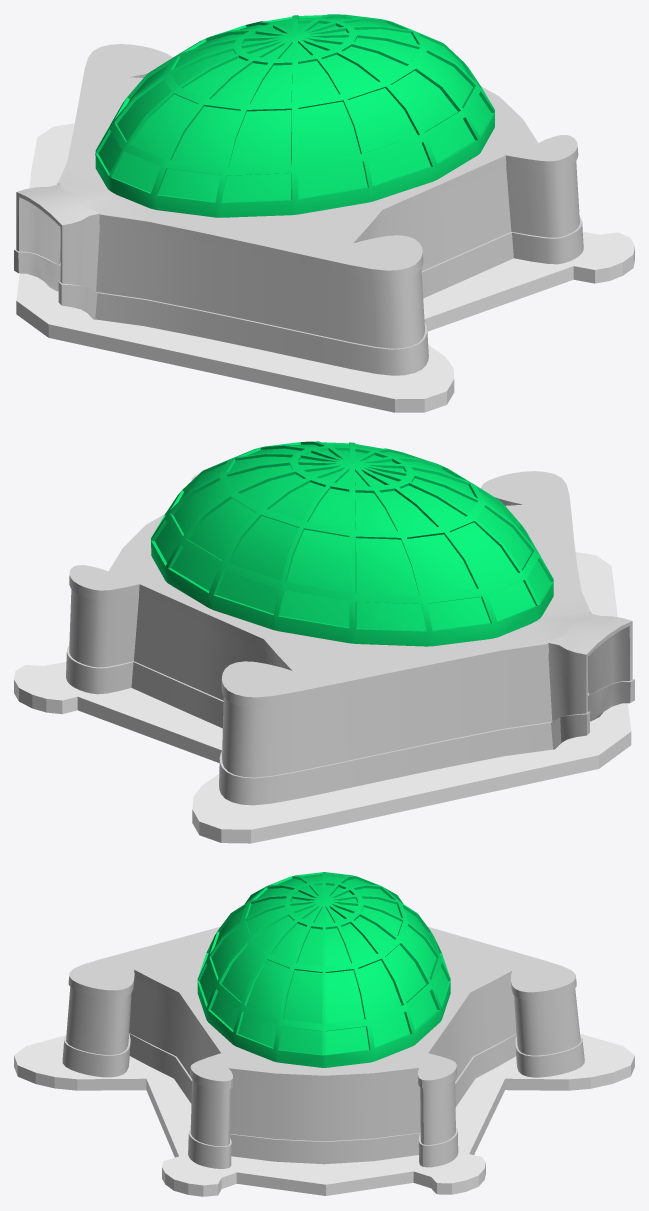
The model's file is Hatchery.fbx.
3 renders of one model, top to bottom at view 1: azimuth 30°, elevation 25°; view 2: azimuth 150°, elevation 25°; view 3: azimuth 270°, elevation 25°, orthographic. The views are drawn at different scales.
Visible parts, largest first — view 1: Object_6.013, Object_6, Object_6.002, Object_6.001, Object_6.004, Object_6.003, Object_6.005, Object_6.014; view 2: Object_6.013, Object_6, Object_6.002, Object_6.001, Object_6.004, Object_6.003, Object_6.005, Object_6.014; view 3: Object_6, Object_6.013, Object_6.001, Object_6.002, Object_6.004, Object_6.003, Object_6.005.
Part boxes in pixels (bbox=[...]): Object_6.013: bbox=[98, 17, 491, 201]; Object_6: bbox=[59, 151, 579, 348]; Object_6.002: bbox=[95, 14, 494, 217]; Object_6.001: bbox=[16, 123, 634, 412]; Object_6.004: bbox=[60, 45, 575, 269]; Object_6.003: bbox=[14, 216, 583, 375]; Object_6.005: bbox=[57, 44, 578, 280]; Object_6.014: bbox=[16, 184, 100, 291]; Object_6.013: bbox=[155, 444, 550, 630]; Object_6: bbox=[69, 589, 589, 777]; Object_6.002: bbox=[151, 441, 553, 646]; Object_6.001: bbox=[14, 552, 631, 843]; Object_6.004: bbox=[72, 472, 588, 696]; Object_6.003: bbox=[66, 646, 634, 805]; Object_6.005: bbox=[69, 471, 591, 707]; Object_6.014: bbox=[548, 613, 632, 721]; Object_6: bbox=[66, 978, 580, 1146]; Object_6.013: bbox=[199, 874, 448, 1054]; Object_6.001: bbox=[14, 1033, 634, 1196]; Object_6.002: bbox=[197, 872, 450, 1067]; Object_6.004: bbox=[71, 928, 573, 1080]; Object_6.003: bbox=[62, 1033, 584, 1168]; Object_6.005: bbox=[68, 926, 576, 1089].
Size of the model in its own units: 2035 by 840 by 2498.
